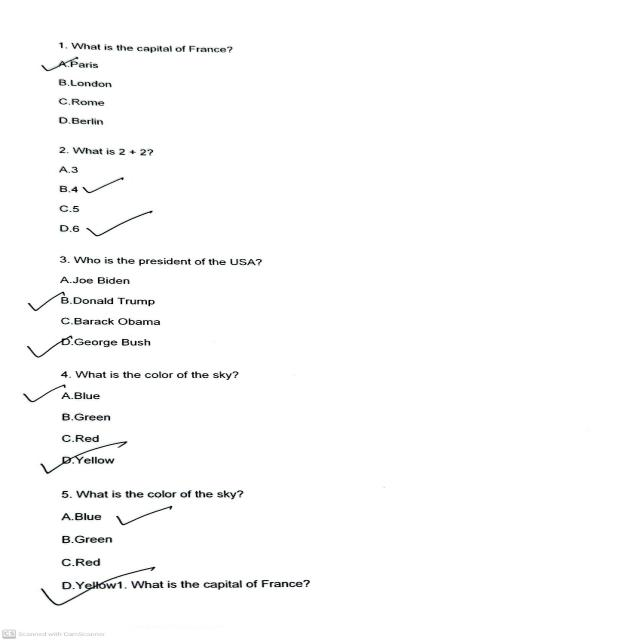Student_Ticked: (46, 572, 153, 606), (90, 205, 152, 238), (20, 329, 72, 364), (114, 501, 179, 528), (77, 172, 138, 195), (38, 50, 82, 76), (20, 381, 72, 403), (54, 447, 110, 466), (27, 291, 70, 311)
